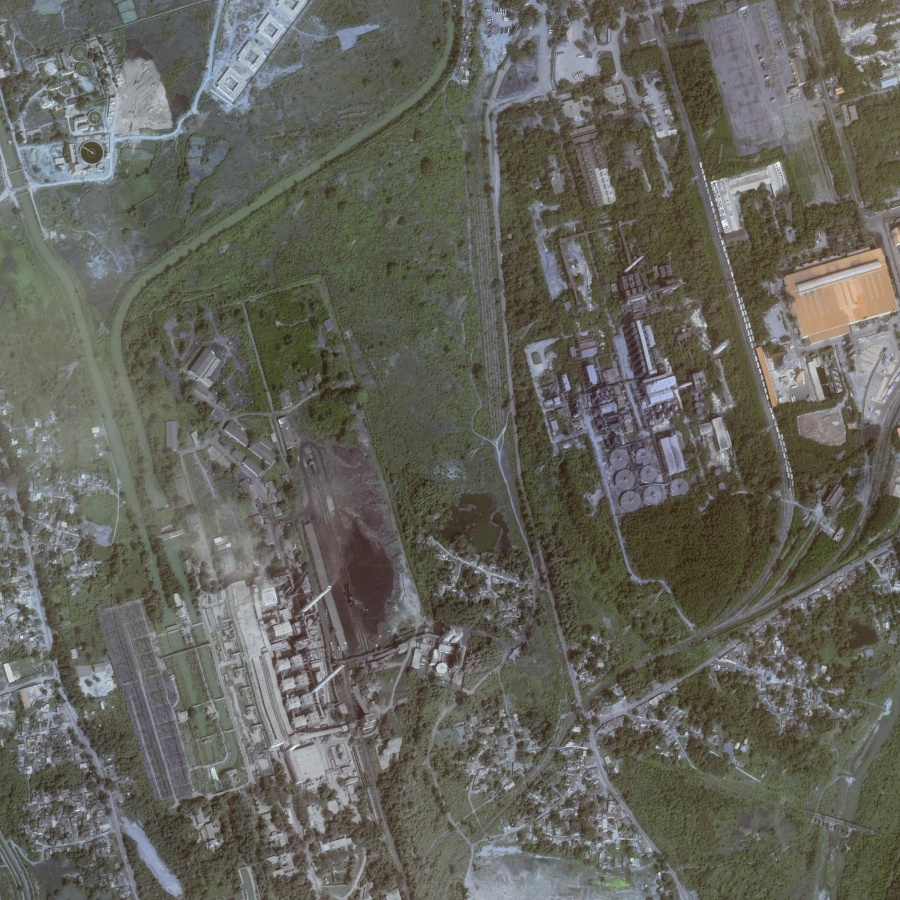PowerPlant: (207, 430, 404, 728)
